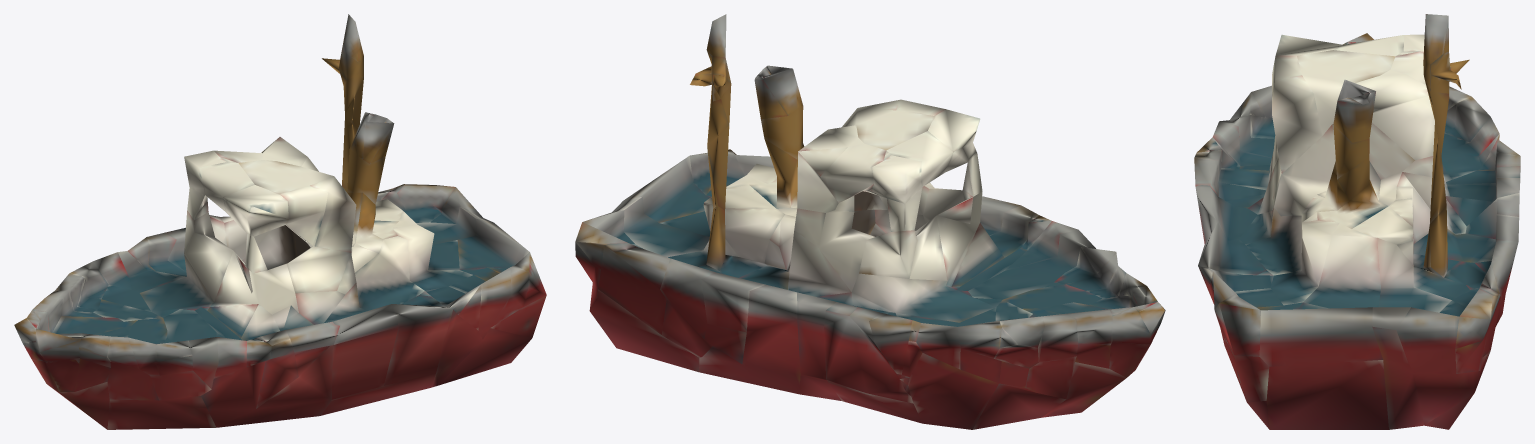
Rendered from barquito_lowpoly.glb.
The picture shows the model from 3 angles, left to right: view 1: azimuth 30°, elevation 25°; view 2: azimuth 150°, elevation 25°; view 3: azimuth 270°, elevation 25°; orthographic projection. The views are drawn at different scales.
Bounding box in the file's own units: 1.9 × 1.18 × 0.9553.
Materials: 1 (1 with a texture image).
